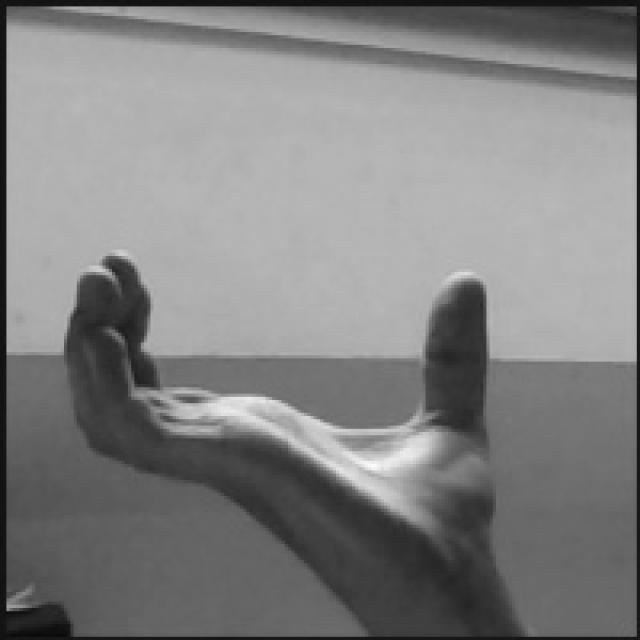space: (61, 250, 498, 563)
